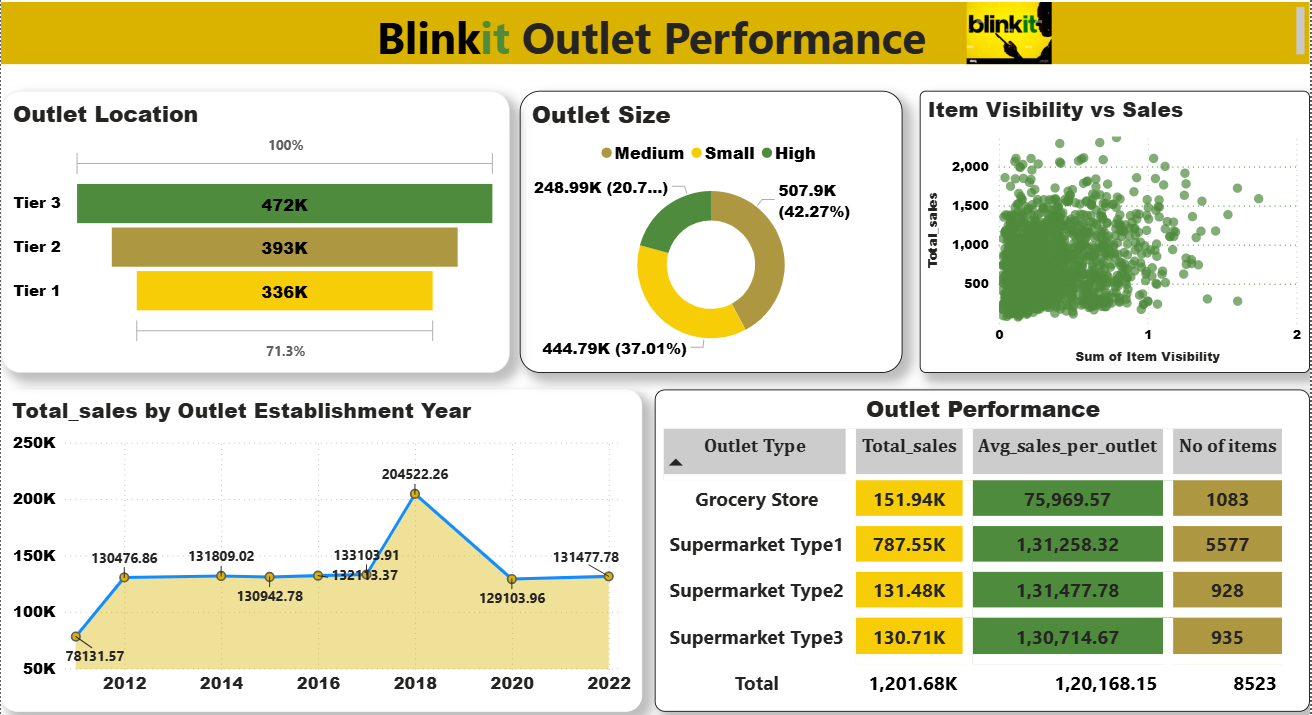

The dashboard page shown, as its layout file describes it:
{"tool":"powerbi","page":{"name":"Outlet Dashboard","canvas":[1280,720],"ordinal":1},"visuals":[{"type":"areaChart","title":"Total_sales by Outlet Establishment Year","fields":{"Category":["Blinkit Grocery Data.Outlet Establishment Year"],"Y":["Blinkit Grocery Data.Total_sales"]},"box":[0,393.8,627.3,315.5],"z":0},{"type":"donutChart","title":" Outlet Size","fields":{"Category":["Blinkit Grocery Data.Outlet Size"],"Y":["Sum(Blinkit Grocery Data.Sales)"]},"box":[507.5,101.5,374.2,276.4],"z":1000},{"type":"funnel","title":"Outlet Location","fields":{"Y":["Sum(Blinkit Grocery Data.Sales)"],"Category":["Blinkit Grocery Data.Outlet Location Type"]},"box":[0,101.5,497.7,276.4],"z":2000},{"type":"pivotTable","title":"Outlet Performance","fields":{"Rows":["Blinkit Grocery Data.Outlet Type"],"Values":["Blinkit Grocery Data.Total_sales","Blinkit Grocery Data.Avg_sales_per_outlet","Blinkit Grocery Data.No of items"]},"box":[639.5,393.8,640.8,315.5],"z":3000},{"type":"scatterChart","title":"Item Visibility vs Sales","fields":{"X":["Sum(Blinkit Grocery Data.Item Visibility)"],"Y":["Blinkit Grocery Data.Total_sales"],"Category":["Blinkit Grocery Data.Item Identifier"]},"box":[898.8,101.5,381.5,276.4],"z":4000},{"type":"textbox","box":[0,14.7,1280.3,61.1],"z":5000},{"type":"image","box":[934.4,14.2,103.8,61.2],"z":6000}]}

Visuals, with their boxes in screenshot pixels (x1, y1, x2, y2):
"Total_sales by Outlet Establishment Year" areaChart: box=[7, 386, 643, 706]
" Outlet Size" donutChart: box=[521, 89, 901, 370]
"Outlet Location" funnel: box=[7, 89, 512, 370]
"Outlet Performance" pivotTable: box=[655, 386, 1305, 706]
"Item Visibility vs Sales" scatterChart: box=[918, 89, 1305, 370]
textbox: box=[7, 1, 1305, 63]
image: box=[954, 1, 1060, 63]
